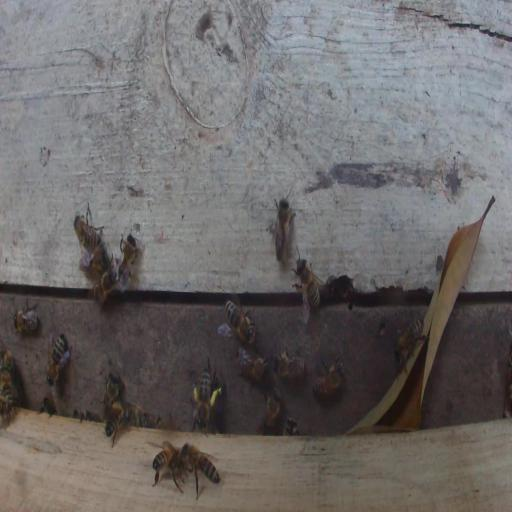nonpollenbee: (181, 442, 220, 499), (269, 196, 296, 265), (290, 256, 322, 311), (151, 440, 183, 492), (394, 316, 423, 370), (223, 300, 255, 345), (312, 357, 346, 398), (46, 332, 71, 386), (89, 267, 119, 306), (237, 350, 269, 383), (73, 217, 101, 254), (105, 403, 128, 447), (13, 298, 39, 335), (274, 350, 306, 379), (263, 386, 281, 431), (119, 232, 138, 273), (80, 252, 108, 274), (105, 371, 121, 408), (0, 393, 17, 427), (126, 406, 153, 427), (1, 345, 15, 381), (40, 392, 58, 417), (284, 415, 299, 436), (217, 324, 235, 338)
pollenbee: (193, 372, 218, 429)
